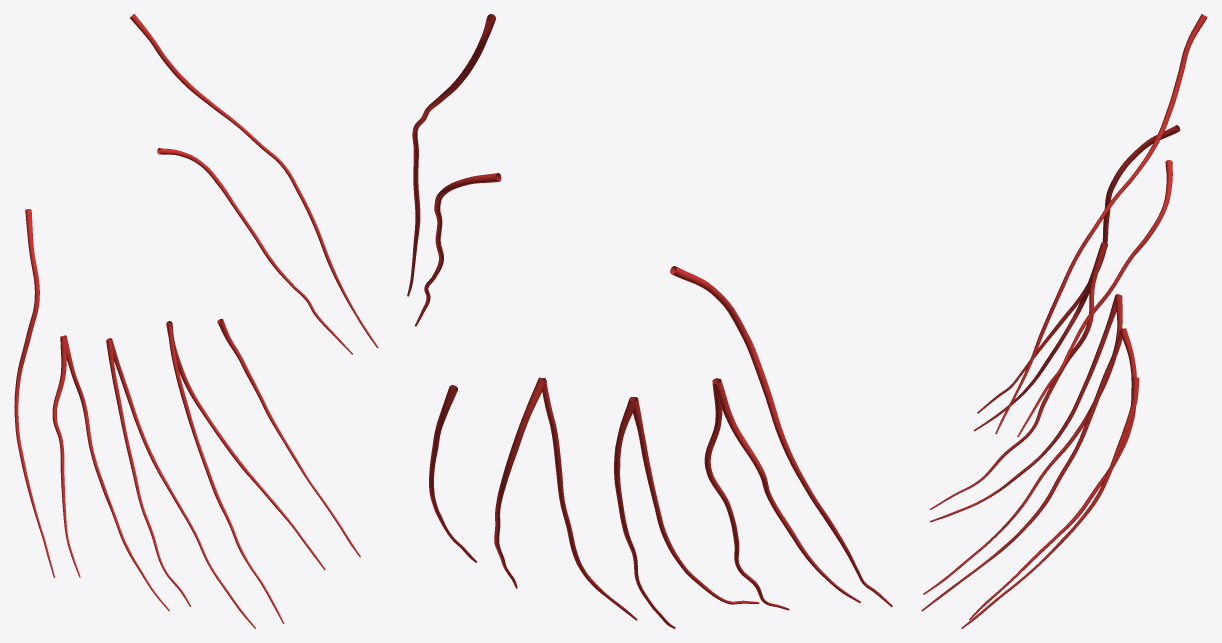
The model's file is circulatorio-proper-palmar-digital-arteries-l.glb.
3 renders of one model, left to right at view 1: azimuth 30°, elevation 25°; view 2: azimuth 150°, elevation 25°; view 3: azimuth 270°, elevation 25°, orthographic. The views are drawn at different scales.
Visible parts, largest first — view 1: Proper palmar digital arteries.l; view 2: Proper palmar digital arteries.l; view 3: Proper palmar digital arteries.l.
Boxes of the visible parts, left/top/right/bottom form: Proper palmar digital arteries.l: left=14, top=14, right=378, bottom=628; Proper palmar digital arteries.l: left=407, top=14, right=892, bottom=628; Proper palmar digital arteries.l: left=921, top=14, right=1207, bottom=628.
Bounding box in the file's own units: 0.107 × 0.1608 × 0.0714.
